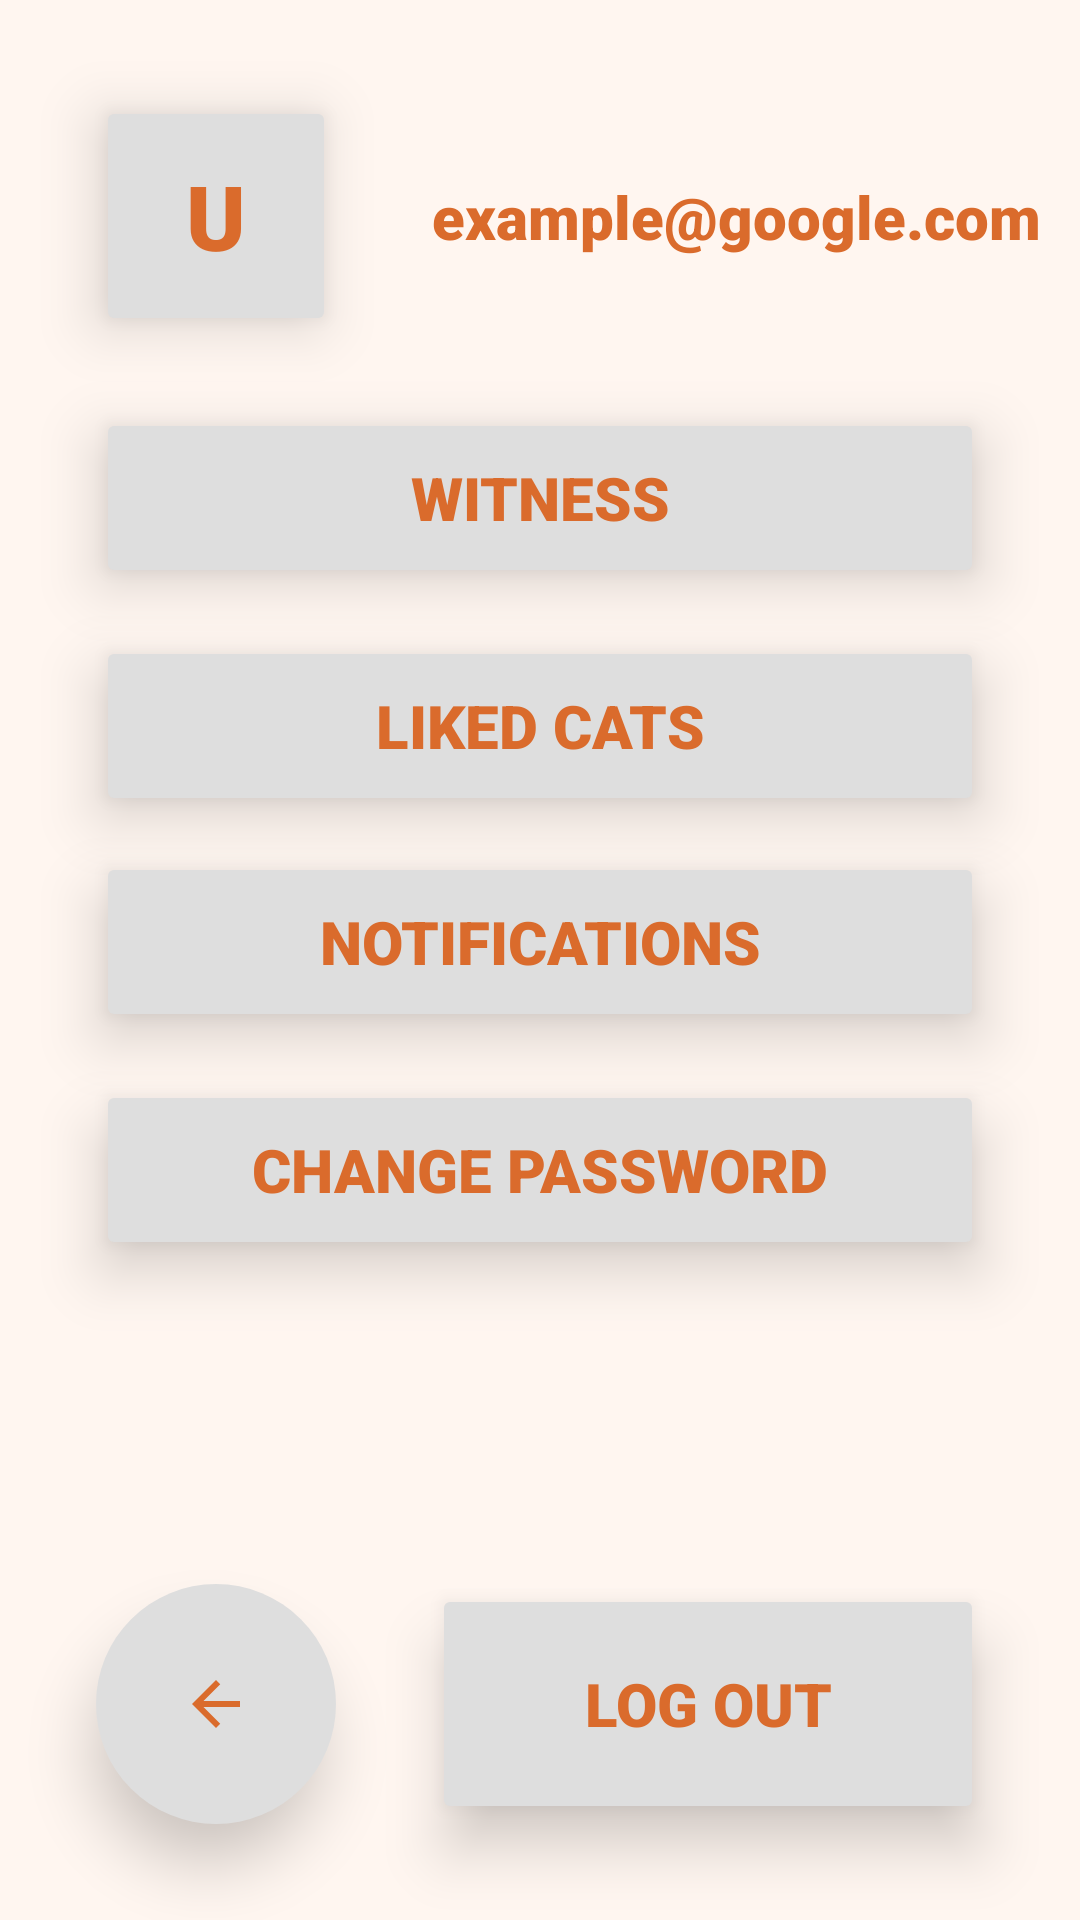

Icons on this 1080w x 1920h Android screen, each with its box as (x1, y1, x2, y2):
arrow back: (96, 1584, 336, 1824)
